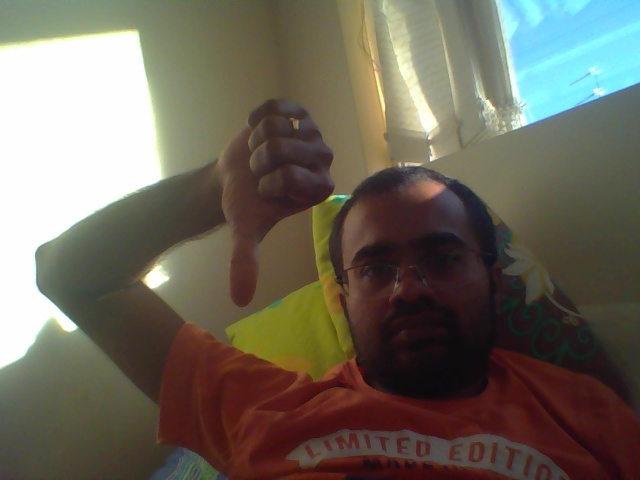ThumbsDown: (216, 97, 338, 309)
